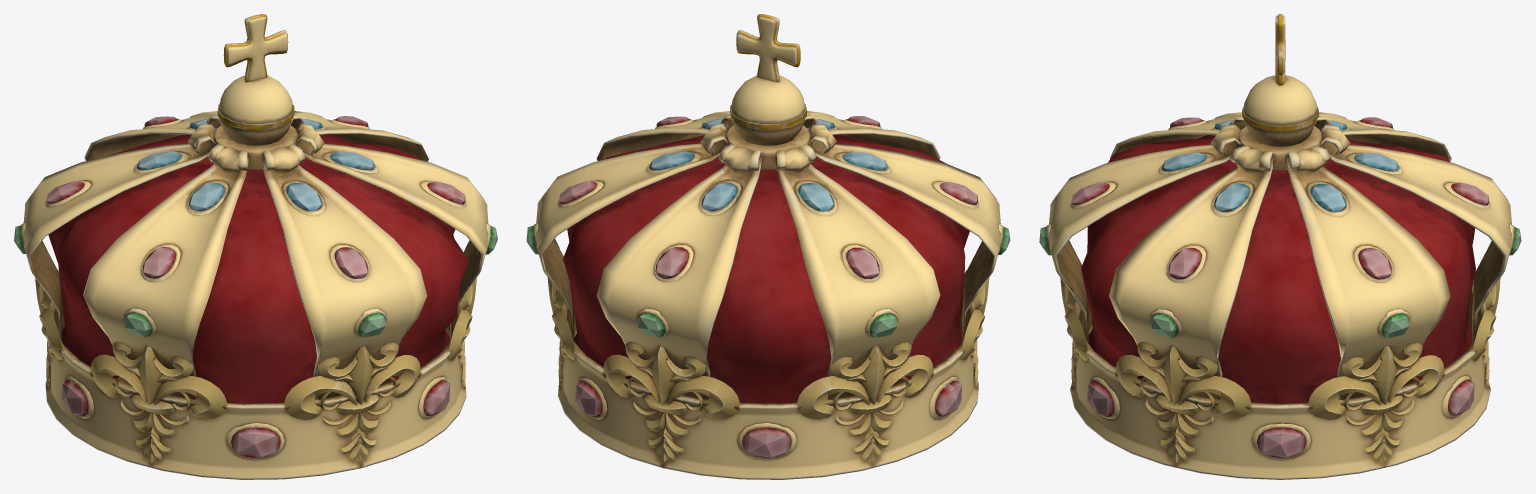
The model's file is KingHat.fbx.
3 views of the same model, side by side, from view 1: azimuth 30°, elevation 25°; view 2: azimuth 150°, elevation 25°; view 3: azimuth 270°, elevation 25° (orthographic).
Parts seen in each view (by area): view 1: Crown; view 2: Crown; view 3: Crown.
Boxes of the visible parts, x1,y1,x2,y2 form: Crown: (14, 14, 497, 479); Crown: (526, 14, 1010, 479); Crown: (1039, 14, 1521, 479).
Size of the model in its own units: 358 by 322 by 376.
